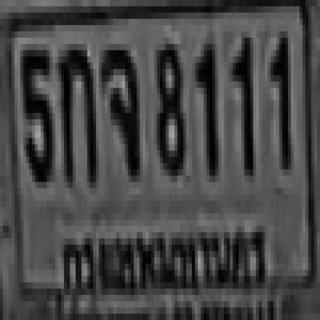A01: (57, 41, 95, 179)
A08: (99, 44, 137, 176)
N01: (268, 28, 288, 166), (230, 32, 250, 170), (194, 38, 214, 169)
N05: (20, 41, 52, 179)
N08: (154, 38, 183, 169)
P04: (53, 214, 274, 299)
